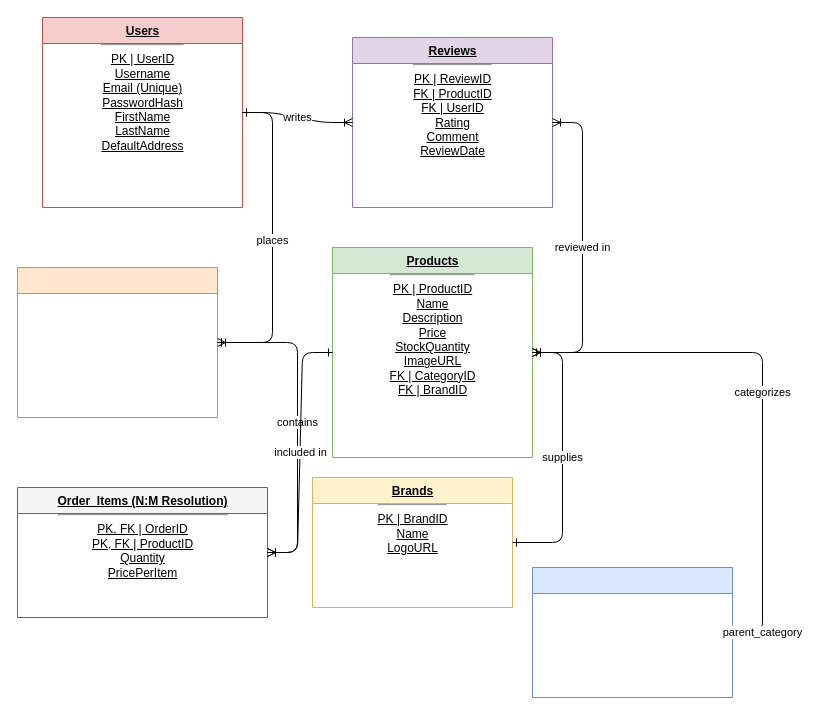
Some shapes in this 820 by 715 pixel diagram are drawn without their labels. The centre of each missing label's shape, as x and y in pixels:
"Categories PK | CategoryID Name FK | ParentCategoryID (Self-ref)" belongs at point 632,632.
"Orders PK | OrderID FK | UserID OrderDate TotalAmount Status" belongs at point 117,342.
